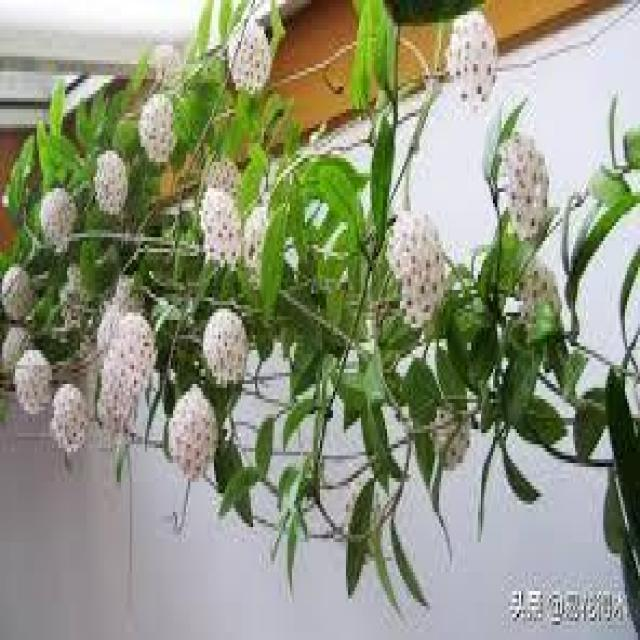organic waste: (375, 194, 455, 329), (488, 102, 554, 241), (96, 298, 157, 396), (440, 11, 507, 98), (197, 167, 251, 273), (174, 390, 224, 491), (434, 369, 478, 474), (515, 237, 562, 335), (218, 13, 274, 92), (204, 303, 250, 390), (51, 384, 92, 471), (152, 21, 190, 107), (137, 83, 174, 169), (95, 137, 128, 228), (17, 341, 54, 416), (43, 179, 80, 254), (245, 202, 272, 300), (0, 256, 43, 312), (8, 314, 32, 386)
